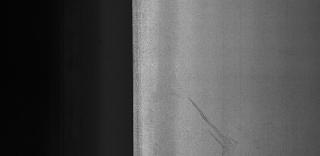water spot: (184, 91, 246, 156)
